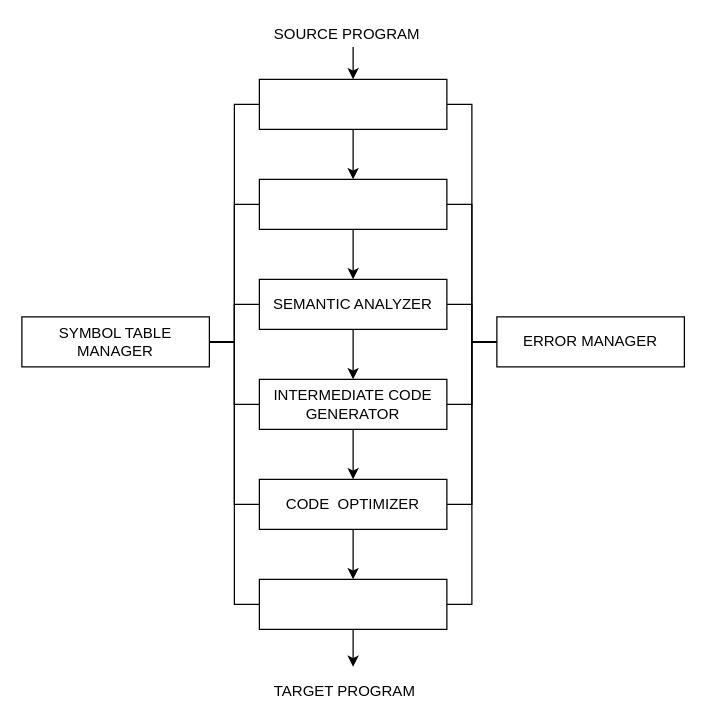
Some shapes in this 706 by 725 pixel diagram are drawn without their labels. The shapes that lost their labels are listed below. From the top down, each one's centre as x and y in pixels, then its label:
pixel 352 103: LEXICAL ANALYZER
pixel 352 203: SYNTAX ANALYZER
pixel 352 603: CODE GENERATOR
